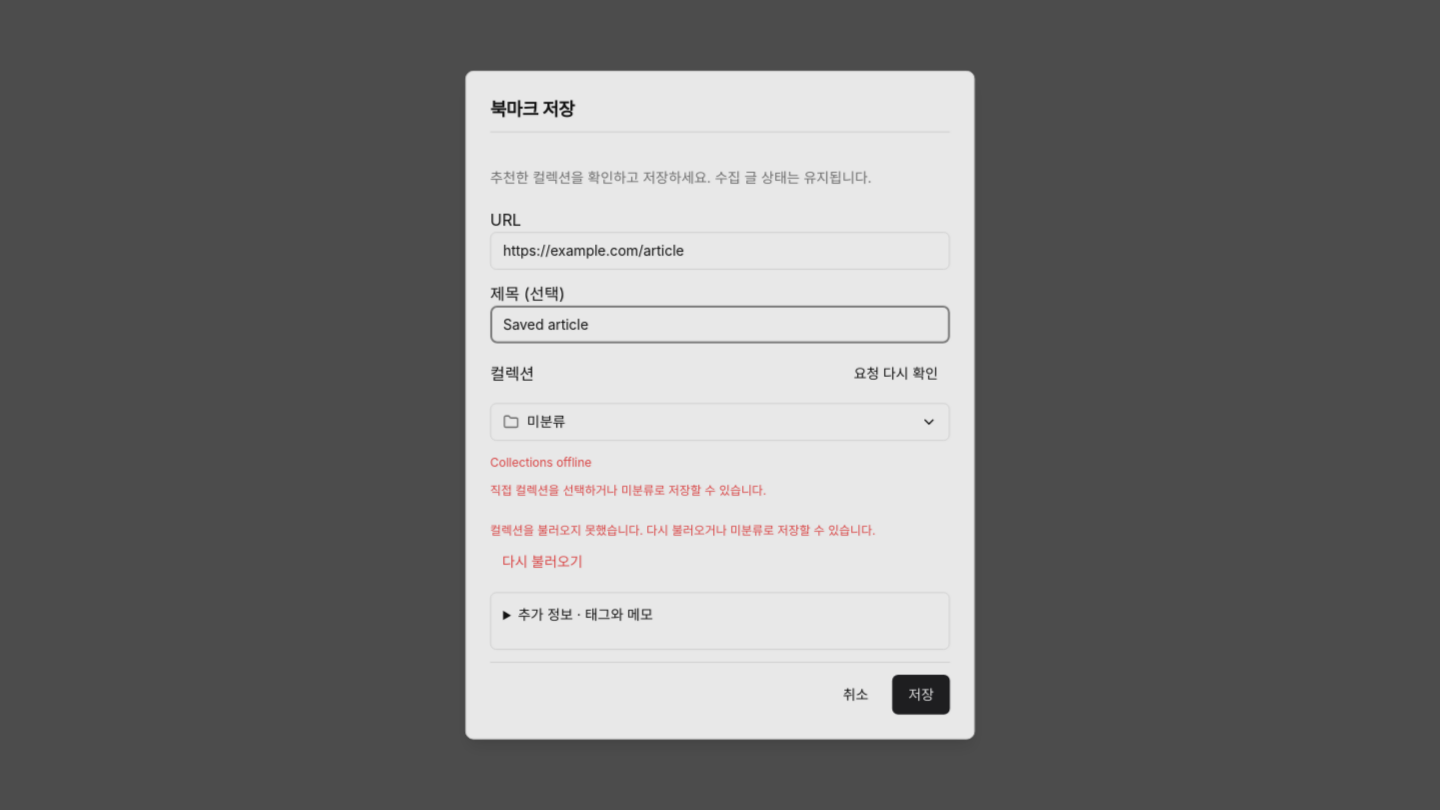
Scenario: bookmark save form › explains a collection loading error and reloads before recommending
This screenshot has width=1440, height=810.
Check: the text "컬렉션을 불러오지 못했습니다. 다시 불러오거나 미분류로 저장할 수 있습니다. 다시 불러오기" is shown, box [489,523,876,581]
Click the button "다시 불러오기": point(542, 563) [489,545,594,581]
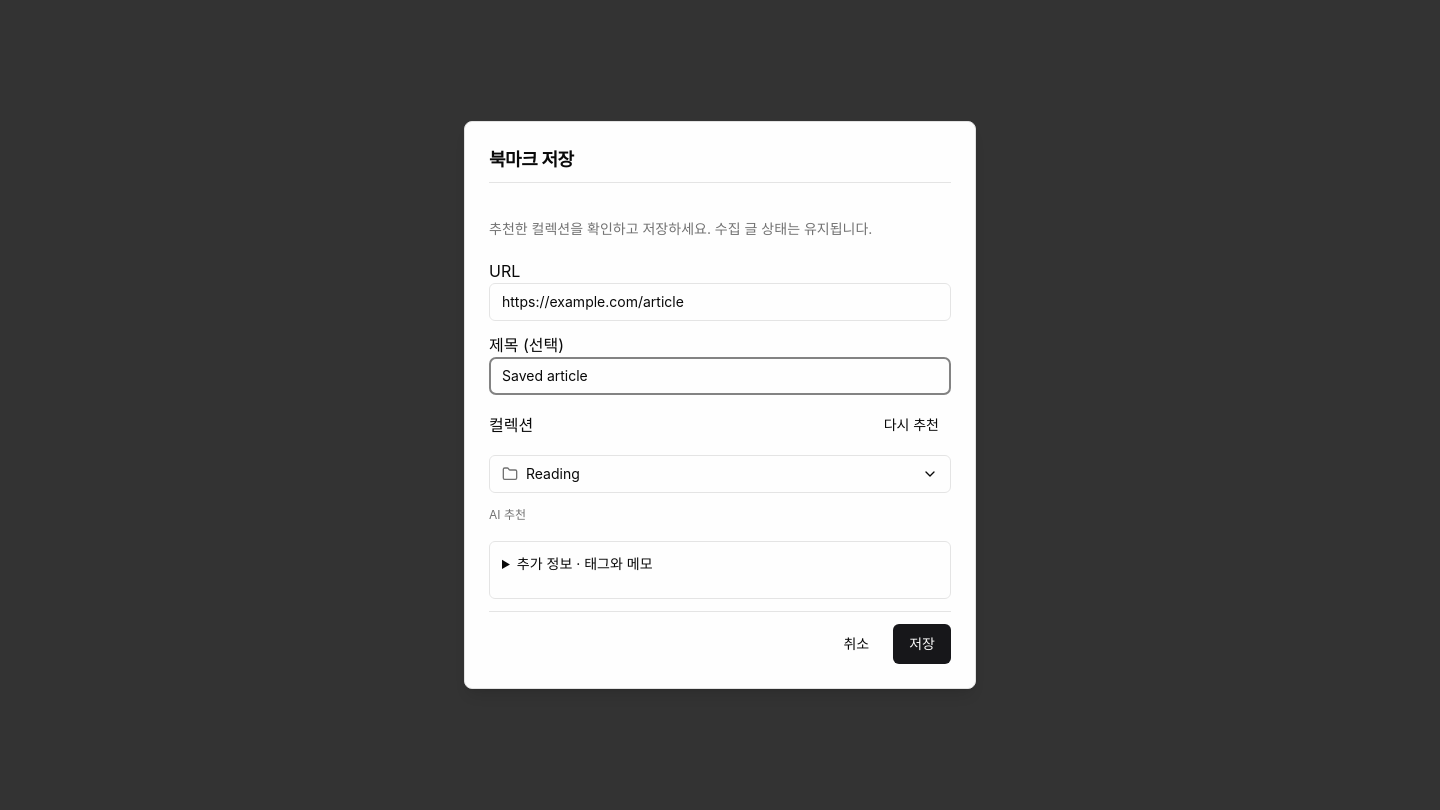
Check: the text "AI 추천" is shown, box [489,507,526,522]
